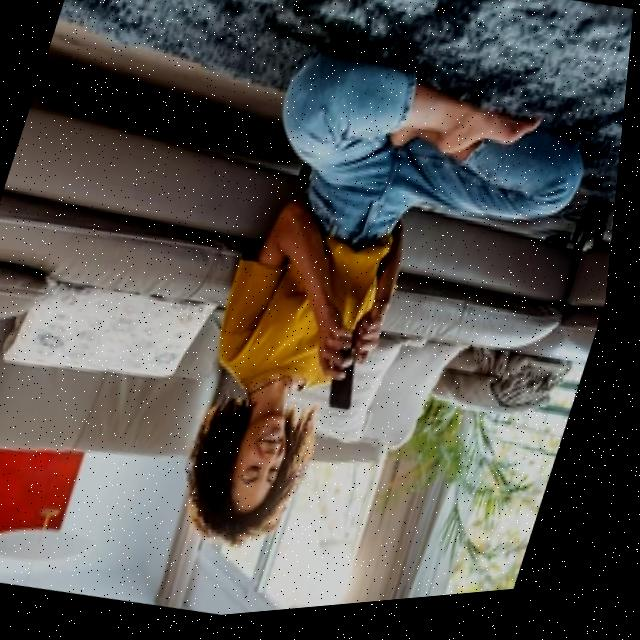smartphone-person: (143, 201, 437, 594)
